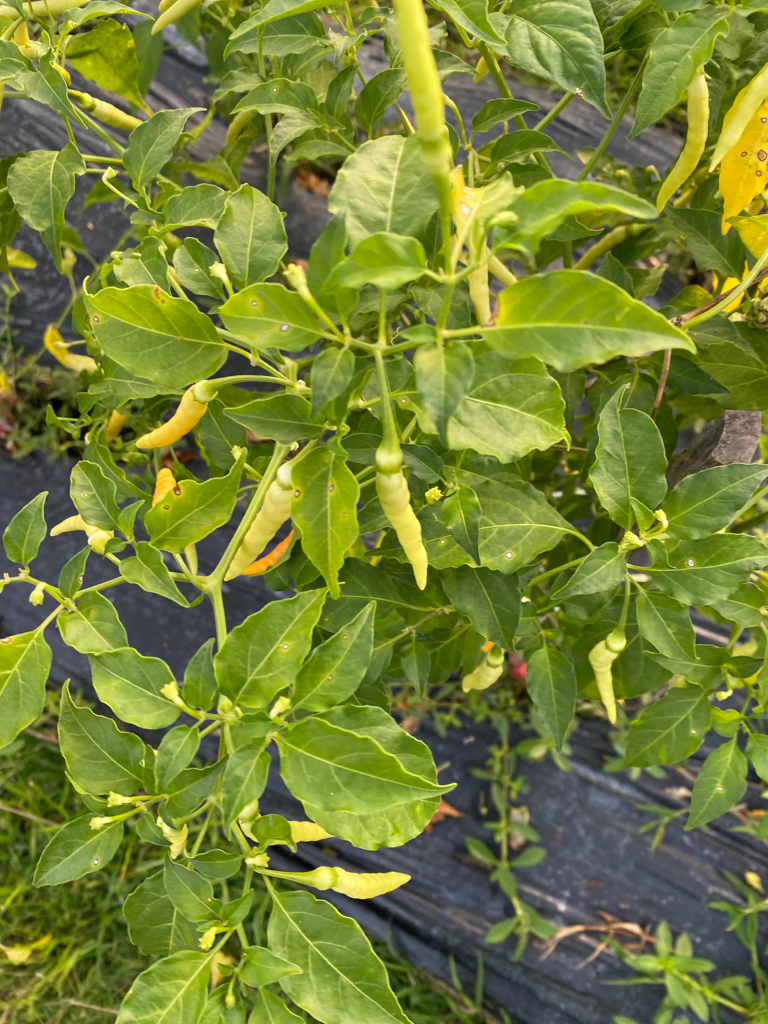frog-eye leafspot: (239, 294, 294, 336), (158, 482, 187, 516), (147, 280, 167, 316), (82, 310, 104, 331), (496, 545, 519, 564), (322, 480, 339, 499), (291, 484, 305, 503)
